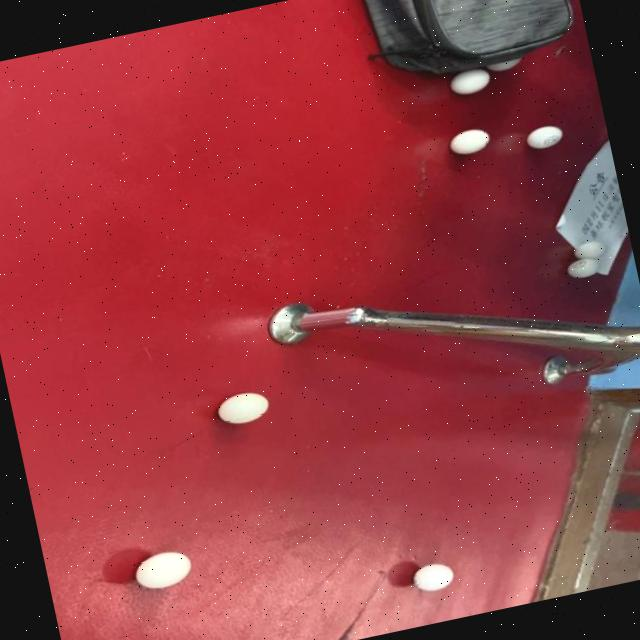ping-pong-ball: (124, 545, 200, 596), (207, 386, 280, 432), (402, 556, 460, 598), (441, 62, 497, 101), (443, 123, 496, 161), (520, 118, 570, 156), (561, 253, 604, 285), (568, 237, 612, 264)
